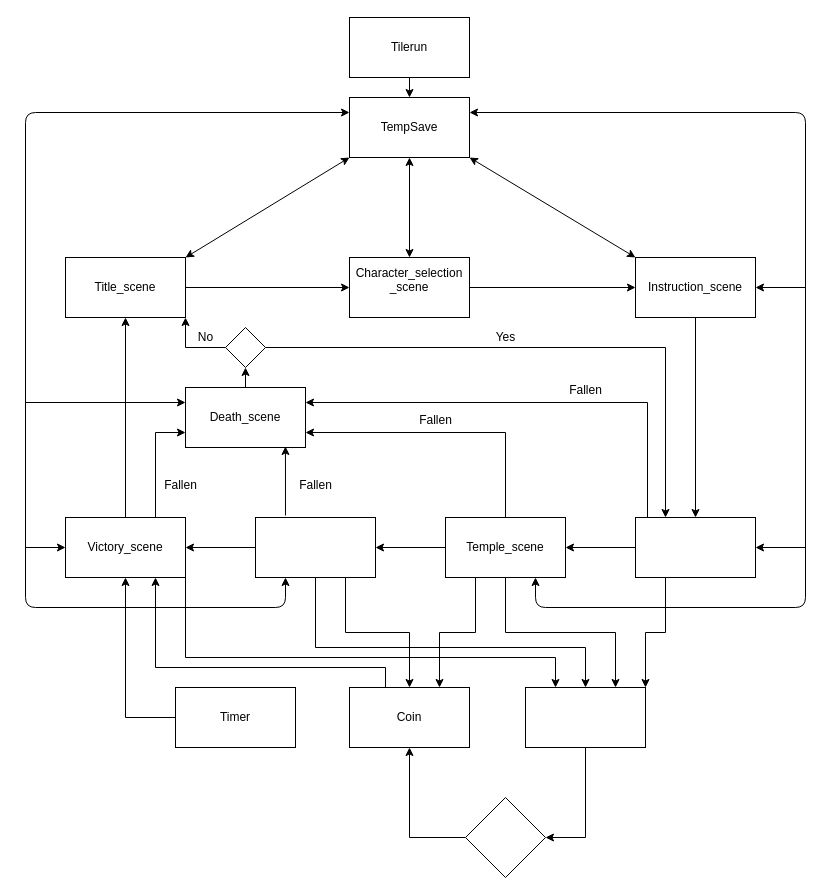
Some shapes in this 832 by 895 pixel diagram are drawn without their labels. Here are the shapes that lost their labels. From the top down, the centre of each, then its label:
point 245,347: Again
point 315,547: FloatingIslands _scene
point 695,547: Level1_scene
point 585,717: Player
point 505,837: Collides with
